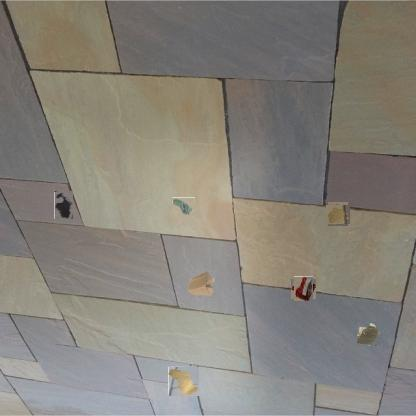dirty: (168, 366, 199, 396), (186, 270, 216, 298), (356, 323, 379, 346), (292, 278, 315, 300), (171, 197, 195, 216)
liquid: (54, 191, 73, 219), (327, 203, 349, 225)
